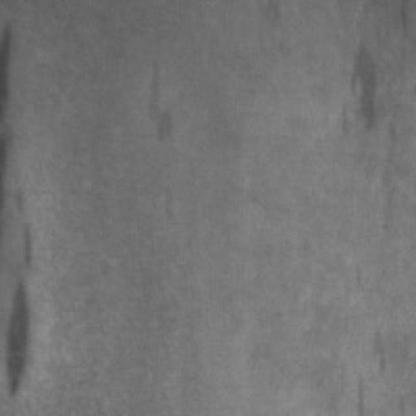inclusion: (4, 189, 52, 406), (339, 40, 395, 144), (137, 68, 183, 148), (362, 326, 397, 382)
